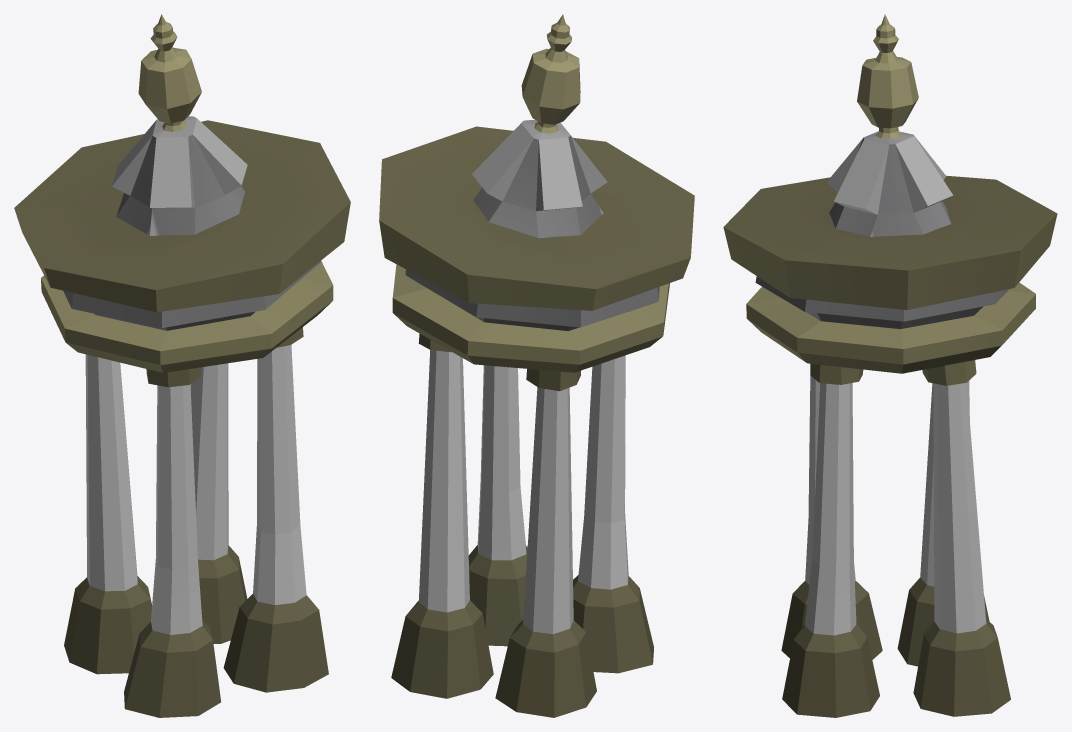
Rendered from ea_bld_monument_1e_pre_2_lev1.glb.
3 renders of one model, left to right at view 1: azimuth 30°, elevation 25°; view 2: azimuth 150°, elevation 25°; view 3: azimuth 270°, elevation 25°, orthographic. The views are drawn at different scales.
Parts seen in each view (by area): view 1: ea_bld_monument_1e_pre_2_lev1; view 2: ea_bld_monument_1e_pre_2_lev1; view 3: ea_bld_monument_1e_pre_2_lev1.
Part boxes in pixels (x1,y1,x2,y2): ea_bld_monument_1e_pre_2_lev1: (14, 14, 350, 717); ea_bld_monument_1e_pre_2_lev1: (379, 14, 694, 717); ea_bld_monument_1e_pre_2_lev1: (723, 14, 1057, 717).
Bounding box in the file's own units: 4.14 × 8.89 × 4.18.
Materials: 1 (1 with a texture image).
